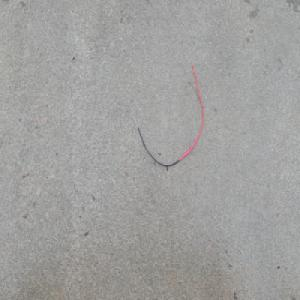Wire: (132, 55, 204, 170)
